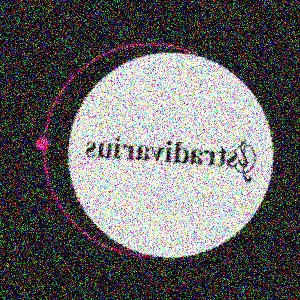stradivarius: (225, 61, 300, 183)
